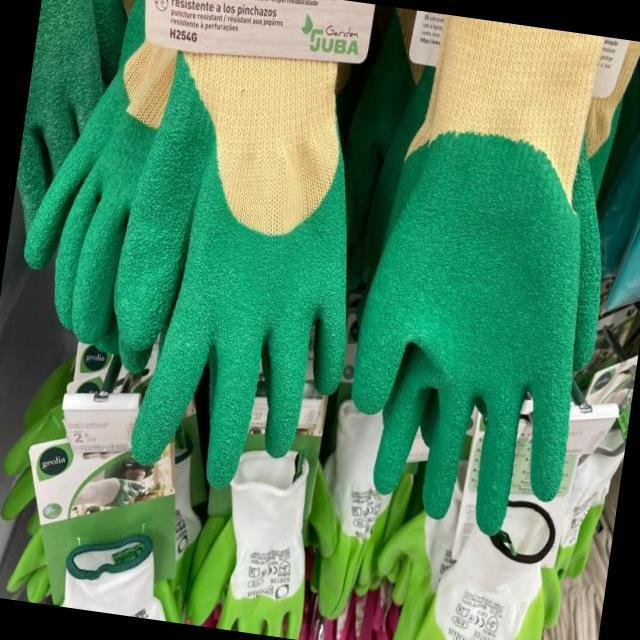glove: (354, 16, 601, 544), (113, 54, 348, 489)
